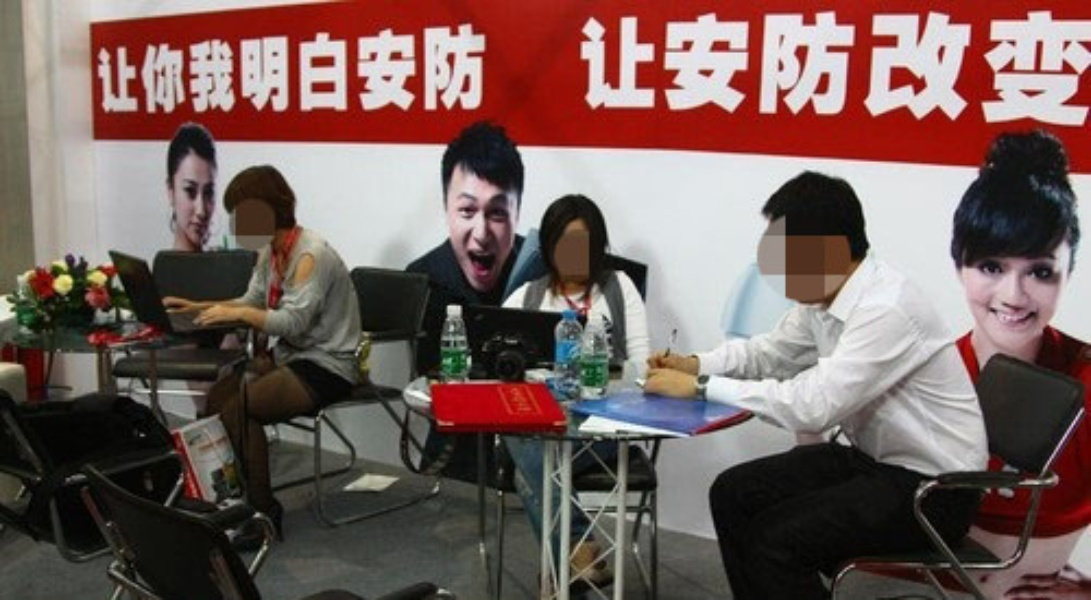text: (1073, 11, 1089, 134), (593, 11, 608, 134), (609, 11, 624, 134), (625, 11, 640, 134), (641, 11, 656, 134), (657, 11, 672, 134), (673, 11, 688, 134), (689, 11, 704, 134), (705, 11, 720, 134), (721, 11, 736, 134), (737, 11, 752, 134), (753, 11, 768, 134), (769, 11, 784, 134), (785, 11, 800, 134), (801, 11, 816, 134), (817, 11, 832, 134), (833, 11, 848, 134), (849, 11, 864, 134), (865, 11, 880, 134), (881, 11, 896, 134), (897, 11, 912, 134), (913, 11, 928, 134), (929, 11, 944, 134), (945, 11, 960, 134), (961, 11, 976, 134), (977, 11, 992, 134), (993, 11, 1008, 134), (1009, 11, 1024, 134), (1025, 11, 1040, 134), (1041, 11, 1056, 134), (1057, 11, 1072, 134), (579, 11, 592, 134), (97, 20, 112, 114), (113, 20, 128, 114), (129, 20, 144, 114), (145, 20, 160, 114), (161, 20, 176, 114), (177, 20, 192, 114), (193, 20, 208, 114), (209, 20, 224, 114), (225, 20, 240, 114), (241, 20, 256, 114), (257, 20, 272, 114), (273, 20, 288, 114), (289, 20, 304, 114), (305, 20, 320, 114), (321, 20, 336, 114), (337, 20, 352, 114), (353, 20, 368, 114), (369, 20, 384, 114), (385, 20, 400, 114), (401, 20, 416, 114), (417, 20, 432, 114), (433, 20, 448, 114), (449, 20, 464, 114), (465, 20, 480, 114), (481, 20, 489, 114), (94, 20, 96, 114)
